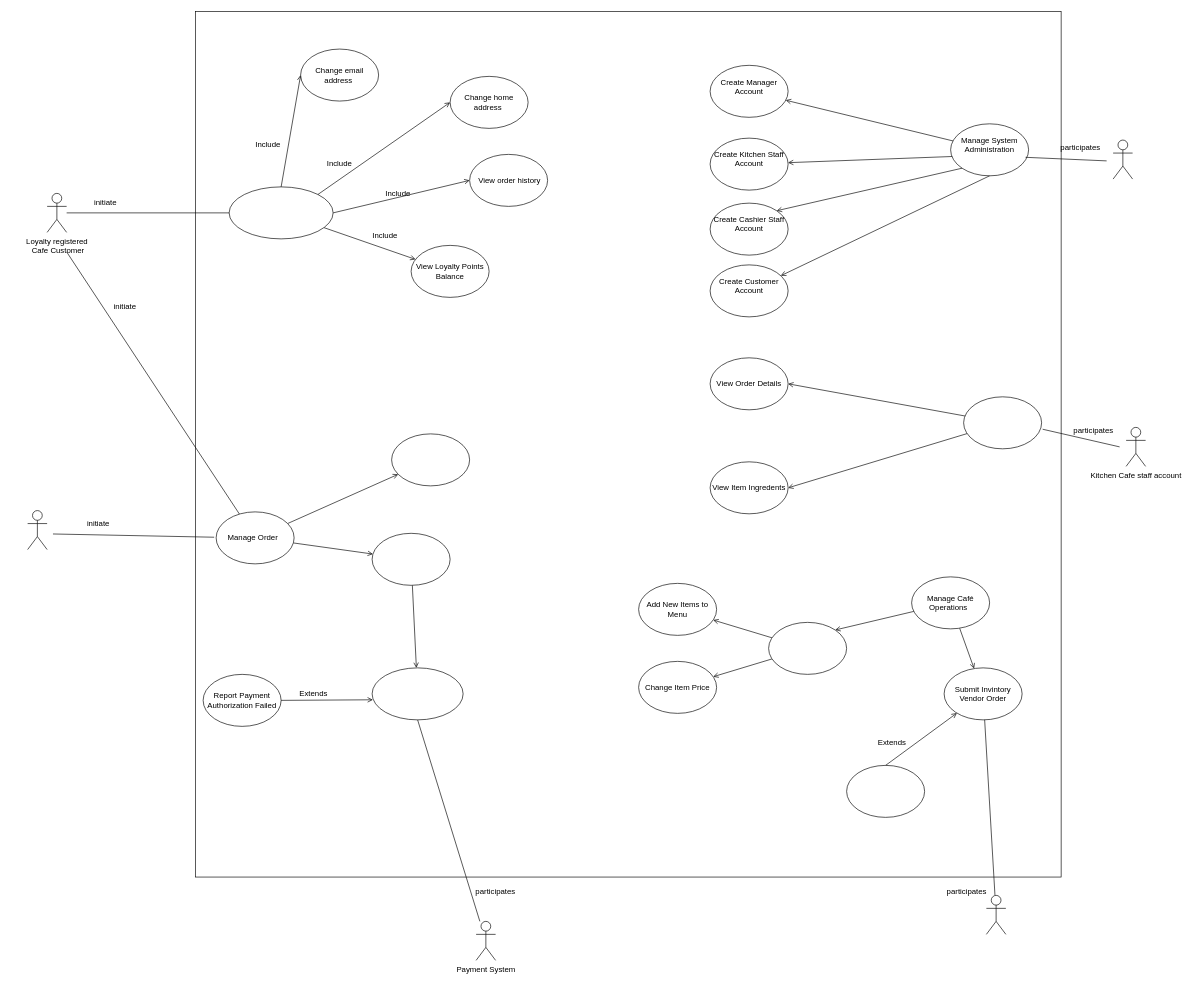
The diagram is 1193 pixels wide and 985 high, and some of its shapes have lost their labels. Here are the shapes that lost their labels. From the top down, the centre of each, then its label:
At pixel 1122 159: "Cafe Administrator Account".
At pixel 280 212: "Manage User Account Profile".
At pixel 1002 422: "Manage Order Preparation".
At pixel 430 459: "View Order status".
At pixel 37 530: "Cafe Customer".
At pixel 410 559: "Place Order".
At pixel 807 648: "Modify Cafe Menu".
At pixel 417 693: "Process Payment".
At pixel 885 791: "Report Vendor Ordering System Failure".
At pixel 996 914: "Vendor Ordering System".
